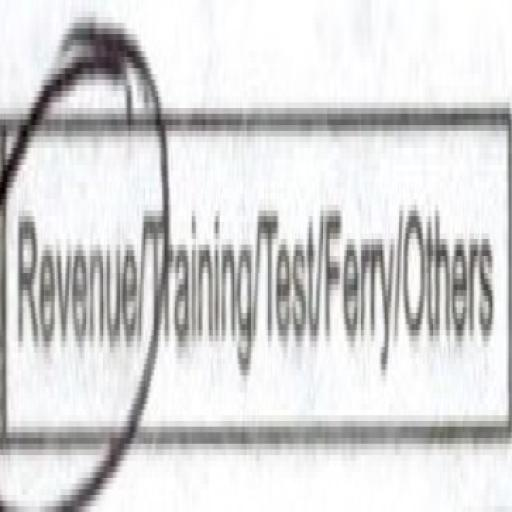check: (1, 0, 141, 512)
